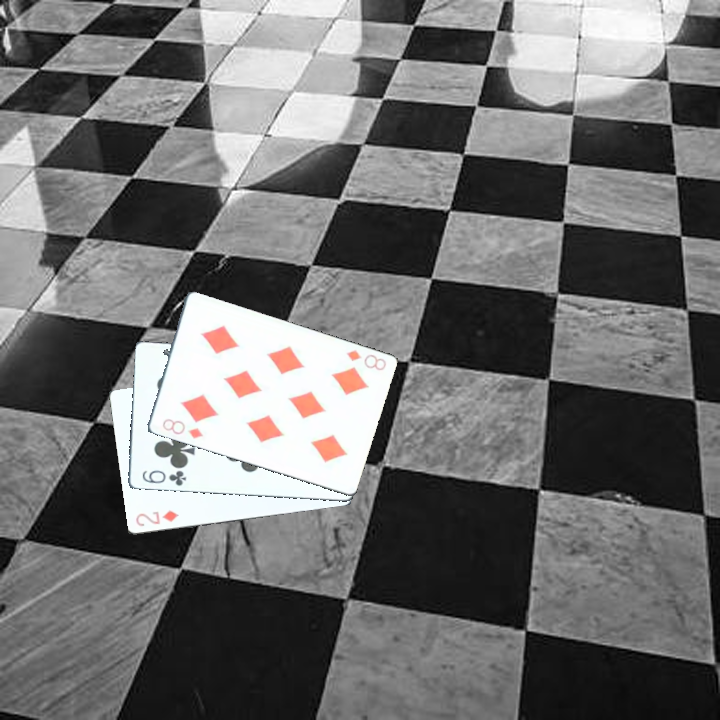2d: (131, 506, 181, 529)
6c: (138, 466, 188, 488)
8d: (342, 346, 389, 373), (158, 414, 203, 441)
